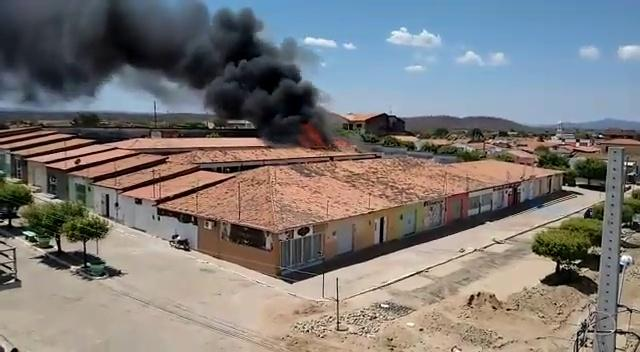Fire: (302, 120, 333, 153)
Smoke: (7, 2, 217, 110), (226, 16, 296, 148)
